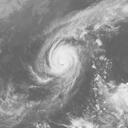cyclone: (36, 37, 81, 87)
